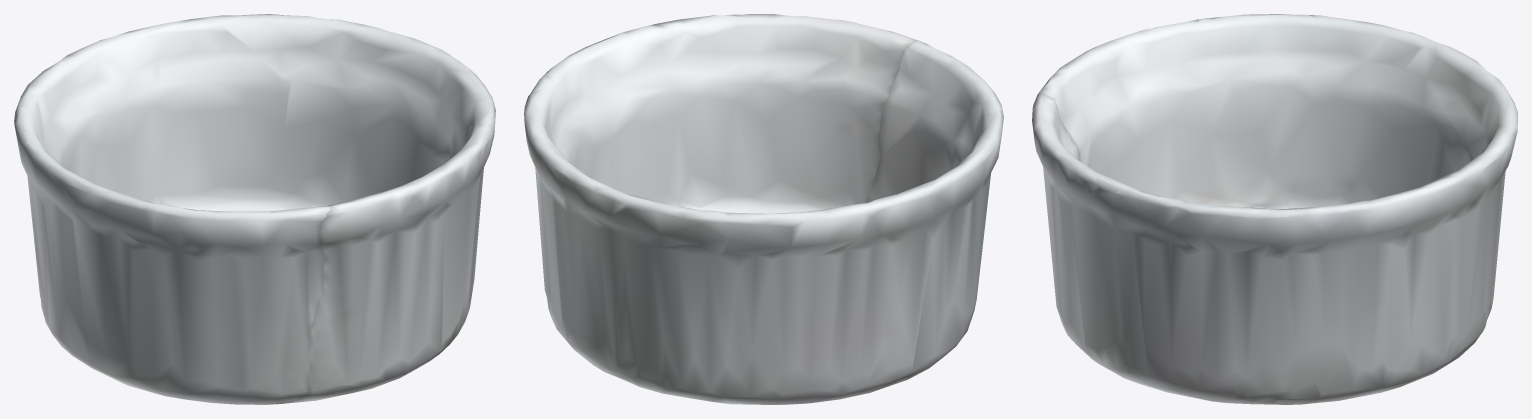
The model's file is BIA_Porcelain_Ramekin_With_Glazed_Rim_35_45_oz_cup-medium.glb.
3 renders of one model, left to right at view 1: azimuth 30°, elevation 25°; view 2: azimuth 150°, elevation 25°; view 3: azimuth 270°, elevation 25°, orthographic.
Visible parts, largest first — view 1: BIA_Porcelain_Ramekin_With_Glazed_Rim_35_45_oz_cup; view 2: BIA_Porcelain_Ramekin_With_Glazed_Rim_35_45_oz_cup; view 3: BIA_Porcelain_Ramekin_With_Glazed_Rim_35_45_oz_cup.
Boxes of the visible parts, bbox=[...] form: BIA_Porcelain_Ramekin_With_Glazed_Rim_35_45_oz_cup: bbox=[14, 14, 495, 404]; BIA_Porcelain_Ramekin_With_Glazed_Rim_35_45_oz_cup: bbox=[524, 14, 1003, 404]; BIA_Porcelain_Ramekin_With_Glazed_Rim_35_45_oz_cup: bbox=[1032, 14, 1517, 404].
Bounding box in the file's own units: 0.0887 × 0.0433 × 0.0884.
Materials: 1 (1 with a texture image).
